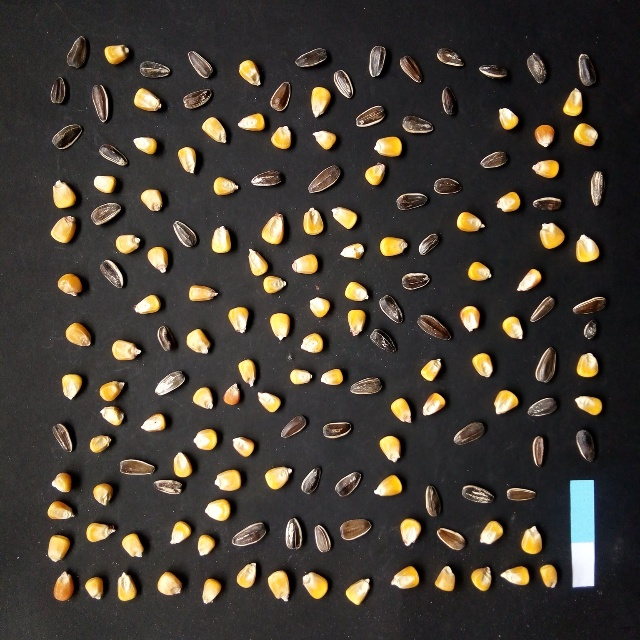escala: (571, 479, 595, 587)
girasol: (304, 163, 345, 199), (448, 417, 487, 449), (227, 520, 269, 549), (88, 81, 114, 126), (413, 313, 452, 343), (520, 49, 550, 86), (185, 48, 217, 82), (96, 256, 128, 290), (49, 121, 84, 152), (48, 420, 76, 458), (169, 217, 201, 250), (524, 293, 558, 324), (532, 344, 558, 384), (292, 41, 329, 69), (433, 524, 468, 553), (351, 102, 387, 130), (458, 482, 496, 508), (153, 369, 188, 397), (330, 65, 357, 101), (88, 200, 124, 227), (319, 416, 355, 443), (337, 516, 373, 543), (115, 456, 159, 478), (375, 292, 404, 325), (367, 327, 400, 356), (178, 85, 214, 111), (249, 166, 285, 192), (569, 292, 608, 316), (333, 469, 363, 500), (524, 394, 558, 421), (95, 142, 130, 168), (573, 428, 598, 464), (278, 413, 310, 441), (396, 53, 424, 85), (136, 58, 173, 82), (346, 375, 383, 399), (299, 463, 323, 500), (65, 34, 89, 70), (575, 50, 597, 89), (267, 79, 292, 113), (395, 189, 429, 214), (399, 269, 433, 294), (529, 191, 565, 214), (587, 168, 607, 209), (282, 515, 304, 552), (366, 44, 388, 81), (433, 46, 465, 70), (438, 84, 459, 120), (398, 114, 434, 135), (527, 432, 548, 468), (423, 482, 444, 518), (478, 148, 510, 171), (429, 175, 464, 196), (154, 323, 176, 356), (416, 230, 440, 258), (312, 523, 333, 554), (503, 484, 537, 503), (476, 62, 508, 82), (48, 74, 68, 105), (152, 478, 186, 496), (578, 316, 599, 342)
maiz: (258, 210, 289, 247), (342, 575, 376, 608), (47, 213, 81, 245), (263, 568, 295, 602), (197, 115, 230, 146), (569, 120, 602, 151), (573, 231, 602, 266), (48, 178, 79, 210), (299, 569, 331, 600), (131, 85, 165, 114), (452, 207, 489, 233), (262, 462, 293, 493), (329, 202, 361, 232), (388, 563, 422, 591), (307, 84, 333, 120), (534, 221, 565, 251), (44, 532, 73, 564), (108, 337, 145, 362), (375, 430, 403, 463), (62, 320, 93, 349), (371, 473, 405, 499), (518, 523, 544, 557), (234, 58, 263, 88), (183, 327, 213, 356), (361, 159, 389, 190), (224, 306, 253, 335), (476, 519, 505, 548), (154, 569, 184, 597), (456, 303, 484, 333), (493, 386, 521, 416), (101, 42, 132, 69), (175, 145, 202, 176), (54, 271, 85, 298), (560, 85, 587, 116), (299, 205, 325, 237), (266, 310, 292, 342), (212, 467, 244, 493), (432, 563, 458, 595), (51, 570, 76, 603), (376, 232, 409, 257), (572, 393, 605, 418), (370, 134, 404, 158), (119, 531, 148, 559), (207, 224, 234, 254), (58, 372, 85, 402), (492, 188, 522, 215), (307, 127, 338, 153), (202, 497, 233, 523), (398, 517, 423, 549), (498, 562, 530, 587), (529, 156, 562, 180), (267, 123, 295, 151), (233, 561, 261, 589), (420, 390, 448, 418), (468, 564, 495, 593), (82, 521, 116, 544), (145, 245, 171, 275), (131, 290, 161, 316), (513, 266, 543, 292), (244, 245, 269, 276), (288, 251, 319, 276), (209, 174, 241, 198), (113, 570, 137, 602), (192, 426, 219, 454), (468, 351, 496, 378), (97, 376, 126, 402), (574, 351, 600, 380), (536, 561, 562, 590), (341, 278, 371, 303), (532, 121, 557, 151), (44, 499, 75, 523), (137, 187, 165, 213), (418, 356, 444, 384), (234, 111, 267, 133), (199, 577, 224, 606), (500, 313, 525, 342), (186, 282, 220, 303), (89, 481, 116, 507), (254, 389, 282, 414), (229, 434, 257, 459), (113, 231, 143, 254), (139, 412, 169, 435), (166, 519, 192, 545), (389, 396, 413, 424), (236, 357, 258, 387), (495, 106, 521, 131), (466, 259, 493, 283), (171, 450, 194, 478), (336, 239, 365, 261), (344, 308, 366, 337), (131, 134, 158, 157), (297, 332, 324, 355), (82, 575, 105, 602), (97, 405, 125, 427), (90, 173, 119, 194), (260, 275, 289, 296), (307, 295, 332, 319), (191, 385, 215, 410), (87, 432, 114, 454), (48, 471, 75, 493), (193, 533, 216, 557), (318, 366, 344, 387), (286, 366, 314, 385), (222, 382, 241, 407)
